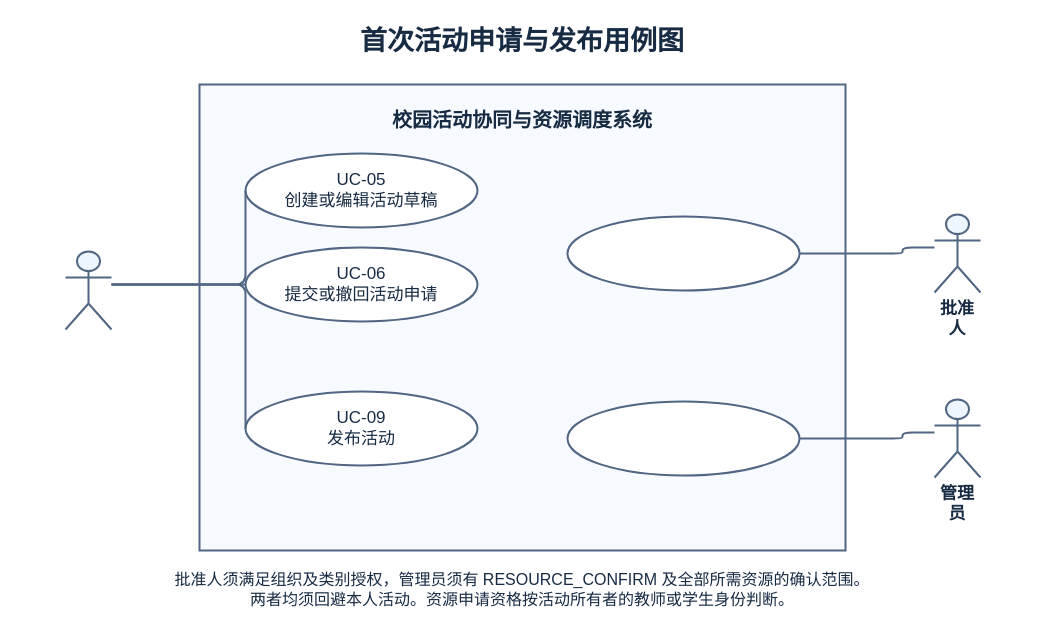
The diagram is 1044 pixels wide and 633 high, and some of its shapes have lost their labels. Each missing label, with the centre of its shape:
"UC-07 审批活动申请" goes at point (683, 253).
"UC-08 确认首次资源预约" goes at point (683, 438).
"申请人" goes at point (88, 290).
